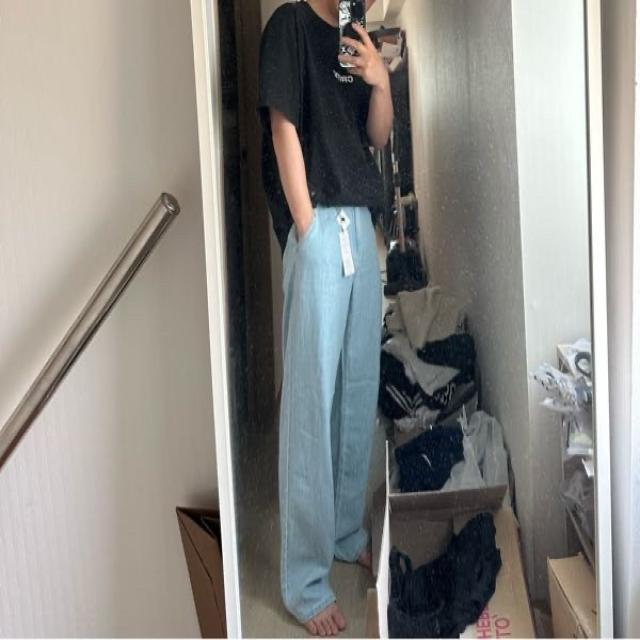denimpants: (279, 202, 383, 622)
shortsleeve: (261, 0, 384, 245)
